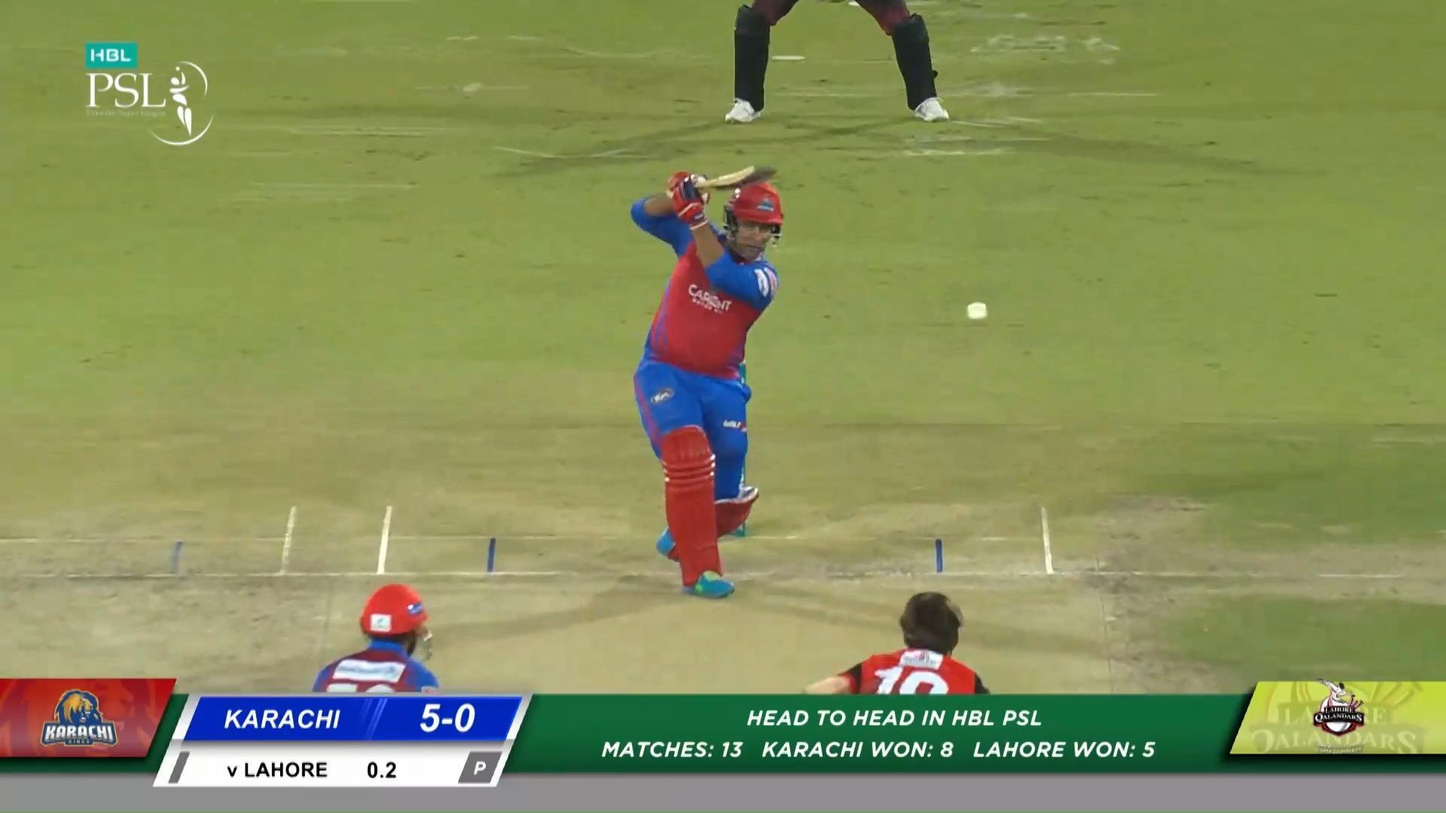BM 1: (630, 160, 787, 601)
BO: (794, 588, 1020, 813)
